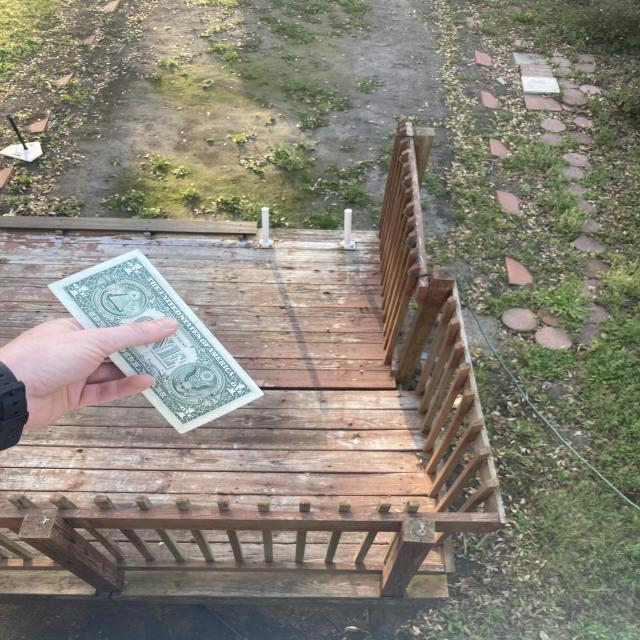one: (47, 249, 265, 435)
